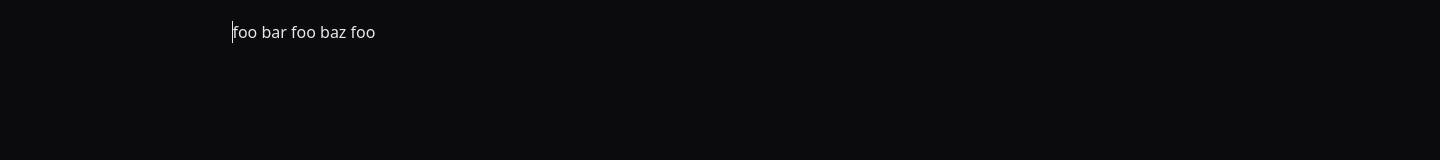
Test: document search › replaces every match in the document
Type keys "{Control>}f{/Control}"
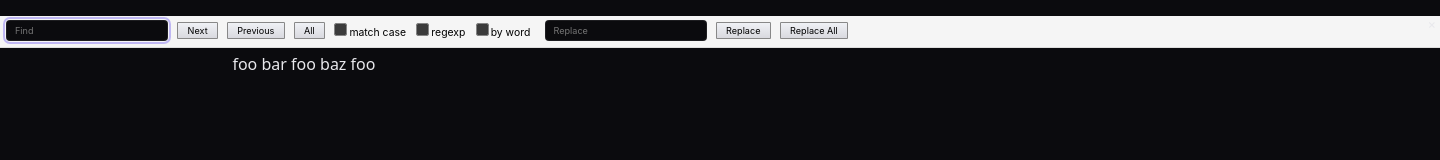
Type keys "foo"
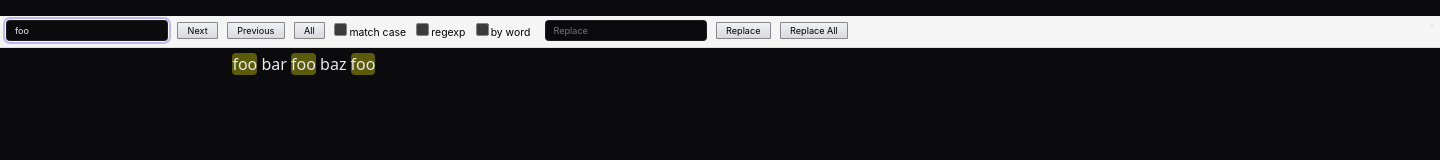
Type keys "{Control>}{Alt>}f{/Alt}{/Control}"
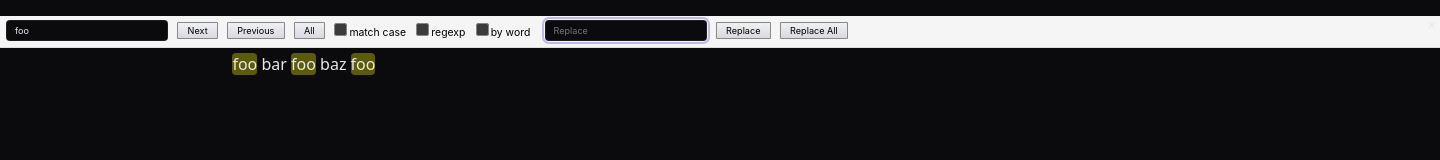
Type keys "qux"
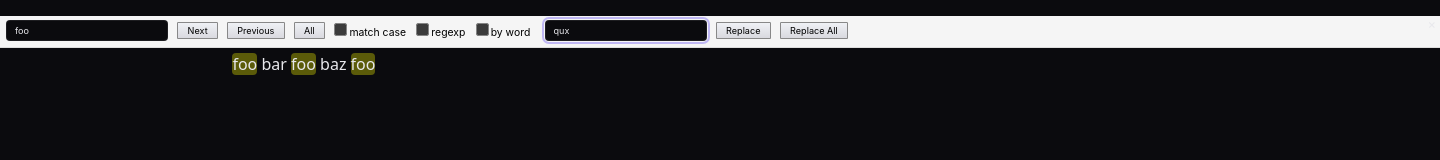
Click the button "replace all": (814, 30) [780,22,848,39]
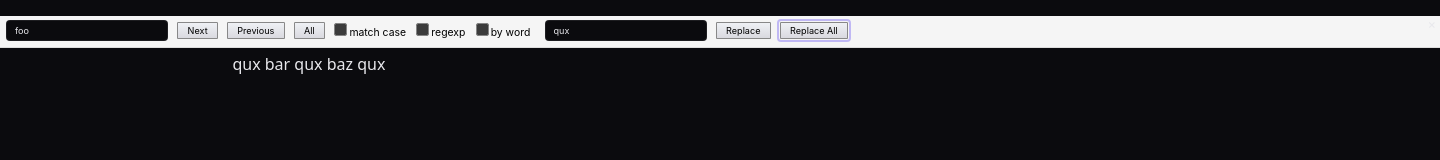
Check: the text box labelled "qux bar qux baz qux" is shown, box [232,53,385,75]
